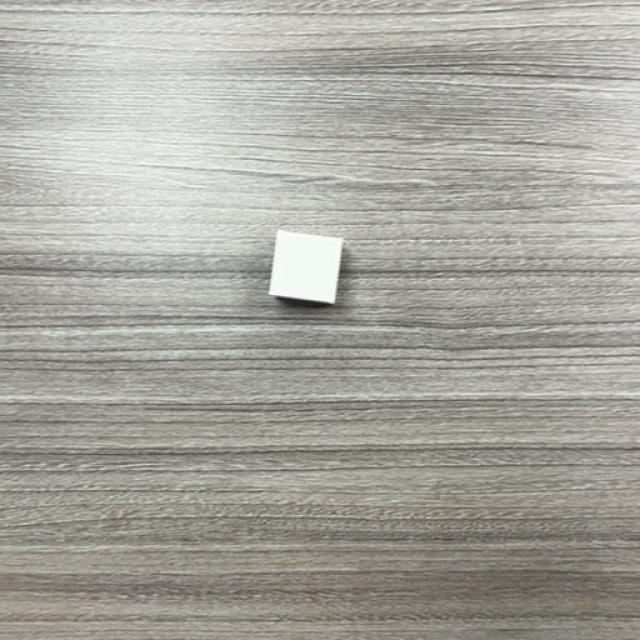Blanco: (268, 230, 345, 306)
